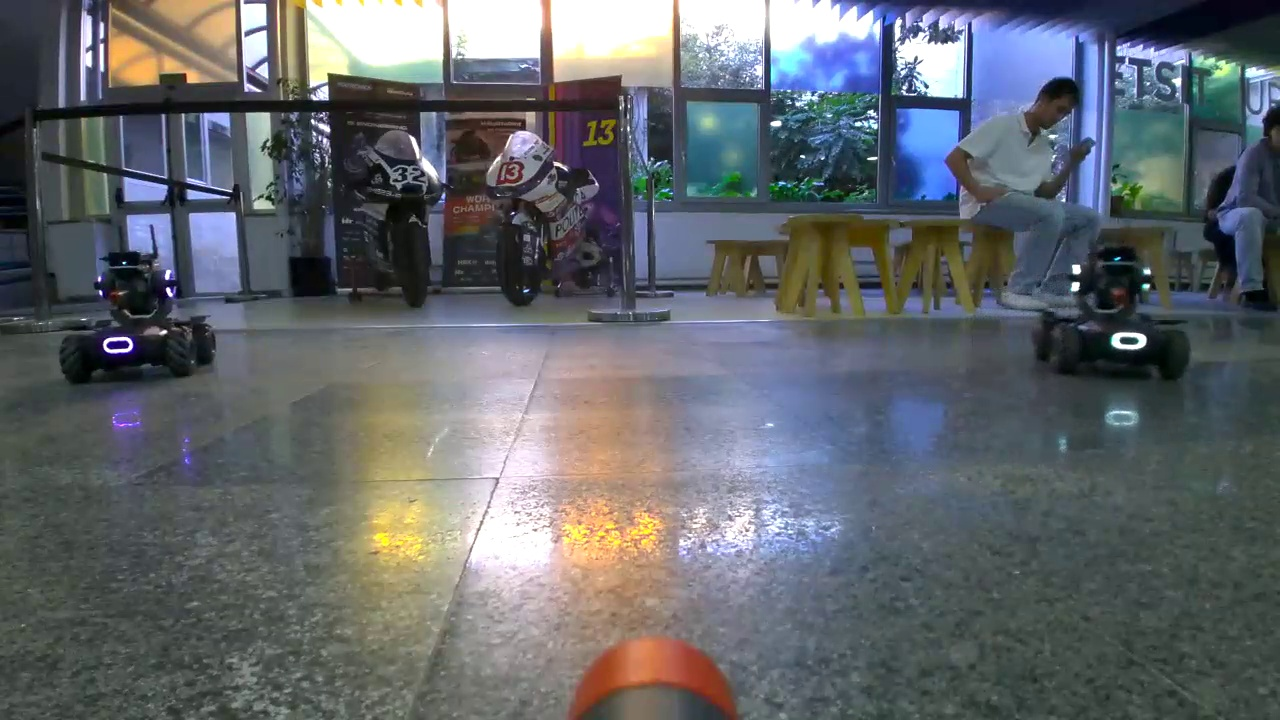robot: (60, 250, 215, 405), (1033, 250, 1190, 380)
